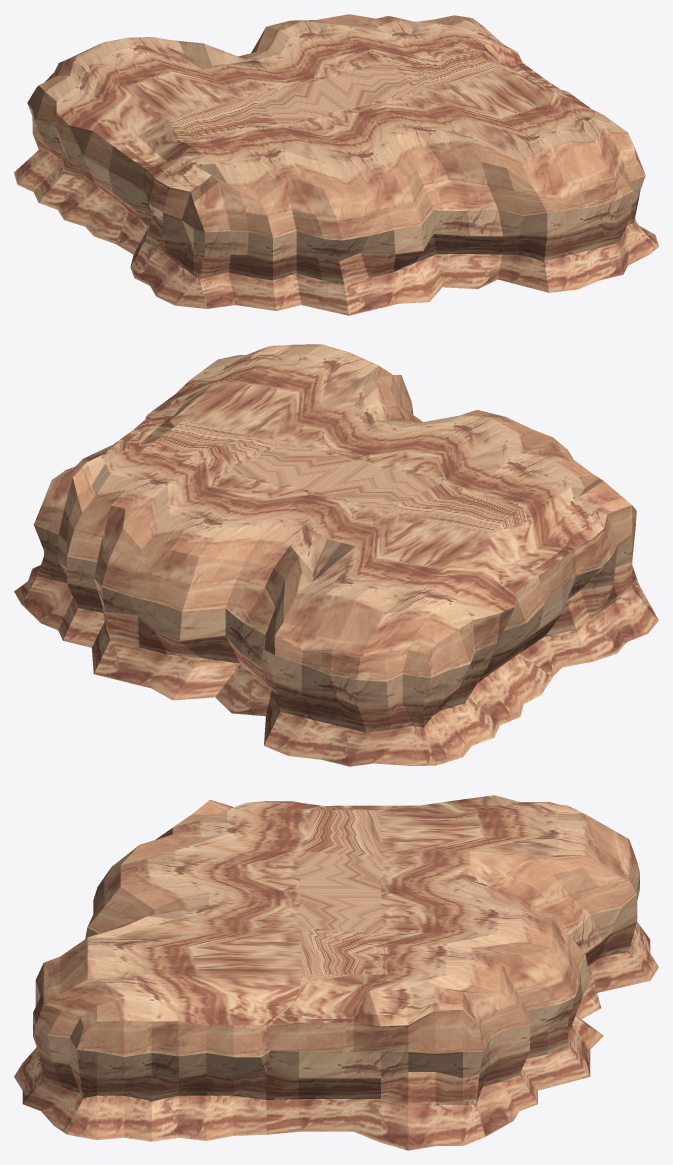
Rendered from Desert_Canyone.fbx.
The picture shows the model from 3 angles, top to bottom: view 1: azimuth 30°, elevation 25°; view 2: azimuth 150°, elevation 25°; view 3: azimuth 270°, elevation 25°; orthographic projection. The views are drawn at different scales.
Parts seen in each view (by area): view 1: Desert_Canyone; view 2: Desert_Canyone; view 3: Desert_Canyone.
Boxes of the visible parts, left/top/right/bottom form: Desert_Canyone: left=14, top=14, right=658, bottom=315; Desert_Canyone: left=14, top=344, right=658, bottom=766; Desert_Canyone: left=14, top=795, right=658, bottom=1150.
Size of the model in its own units: 10901 by 2683 by 11753.
